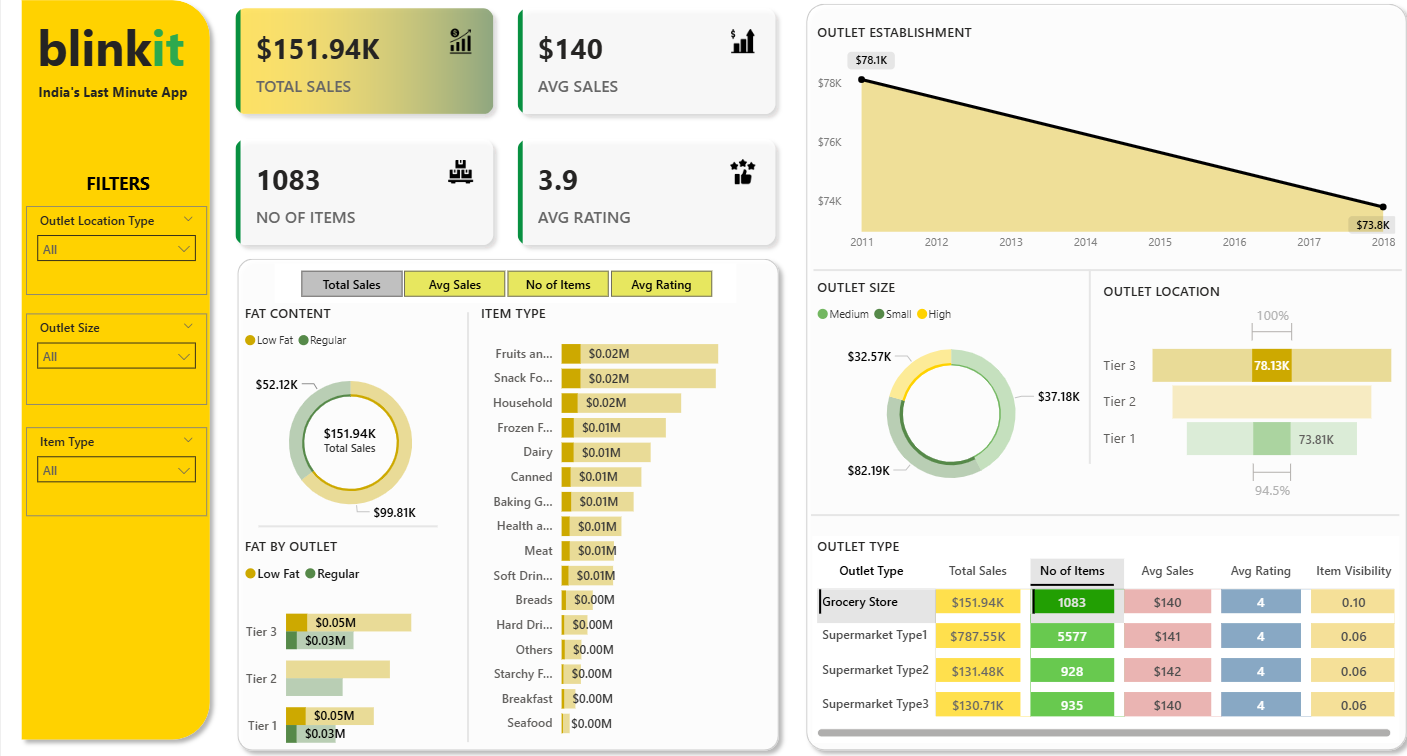

This screenshot's page, from the dashboard's own definition file:
{"tool":"powerbi","page":{"name":"Page 1","canvas":[1400,800],"ordinal":0},"visuals":[{"type":"shape","box":[10.9,15,204.5,749.8],"z":0},{"type":"textbox","box":[31.4,32.7,165,83.2],"z":1000},{"type":"textbox","box":[28.9,98.7,167.1,34.2],"z":2000},{"type":"cardVisual","fields":{"Data":["BlinkIT Grocery Data.Total Sales","BlinkIT Grocery Data.Avg Sales","BlinkIT Grocery Data.No of Items","BlinkIT Grocery Data.Avg Rating"]},"box":[215.4,15,569.9,269.9],"z":3000},{"type":"shape","box":[225,271.3,553.5,504.4],"z":4000},{"type":"donutChart","title":"FAT CONTENT","fields":{"Y":["BlinkIT Grocery Data.Total Sales"],"Category":["BlinkIT Grocery Data.Item Fat Content"]},"box":[235.9,324.5,219.5,230.4],"z":5000},{"type":"slicer","fields":{"Values":["Metrics.Metrics"]},"box":[271.3,284.9,456.7,39.5],"z":6000},{"type":"cardVisual","fields":{"Data":["BlinkIT Grocery Data.Total Sales"]},"box":[298.6,425.4,94.1,62.7],"z":7000},{"type":"clusteredBarChart","title":"FAT BY OUTLET","fields":{"Y":["BlinkIT Grocery Data.Total Sales"],"Category":["BlinkIT Grocery Data.Outlet Location Type"],"Series":["BlinkIT Grocery Data.Item Fat Content"]},"box":[236.8,553.9,219.7,230.3],"z":8000},{"type":"shape","box":[254.9,534.4,177.2,20.5],"z":9000},{"type":"shape","box":[454,332.7,16.4,425.4],"z":10000},{"type":"barChart","title":"ITEM TYPE","fields":{"Y":["BlinkIT Grocery Data.Total Sales"],"Category":["BlinkIT Grocery Data.Item Type"]},"box":[470.4,324.5,286.3,440.4],"z":11000},{"type":"shape","box":[788,19.1,612.1,756.7],"z":12000},{"type":"lineChart","title":"OUTLET ESTABLISHMENT","fields":{"Y":["BlinkIT Grocery Data.Total Sales"],"Category":["BlinkIT Grocery Data.Outlet Establishment Year"]},"box":[803,46.4,582.1,234.5],"z":13000},{"type":"shape","box":[804.4,280.8,582.1,20.5],"z":14000},{"type":"donutChart","title":"OUTLET SIZE","fields":{"Y":["BlinkIT Grocery Data.Total Sales"],"Category":["BlinkIT Grocery Data.Outlet Size"]},"box":[803,298.6,275.4,225],"z":15000},{"type":"shape","box":[1070.2,290.4,15,192.2],"z":16000},{"type":"funnel","title":"OUTLET LOCATION","fields":{"Y":["Sum(BlinkIT Grocery Data.Sales)"],"Category":["BlinkIT Grocery Data.Outlet Location Type"]},"box":[1086.6,301.3,299.9,222.2],"z":17000},{"type":"shape","box":[801.6,523.5,582.1,20.5],"z":18000},{"type":"pivotTable","title":"OUTLET TYPE","fields":{"Rows":["BlinkIT Grocery Data.Outlet Type"],"Values":["BlinkIT Grocery Data.Total Sales","BlinkIT Grocery Data.No of Items","BlinkIT Grocery Data.Avg Sales","BlinkIT Grocery Data.Avg Rating","Avg(BlinkIT Grocery Data.Item Visibility)"]},"box":[803,553.5,580.8,204.5],"z":19000},{"type":"slicer","fields":{"Values":["BlinkIT Grocery Data.Outlet Location Type"]},"box":[25,227.6,178.9,88.2],"z":20000},{"type":"slicer","fields":{"Values":["BlinkIT Grocery Data.Outlet Size"]},"box":[25,334.2,178.9,90.8],"z":21000},{"type":"slicer","fields":{"Values":["BlinkIT Grocery Data.Item Type"]},"box":[25,446.1,178.9,88.2],"z":22000},{"type":"shape","title":"FILTERS","box":[72.4,193.4,85.5,25],"z":23000}]}

Visuals, with their boxes on the page's 1400x800 design canvas (x1, y1, x2, y2). These are canvas units, not pixel positions in the 1407x756 screenshot, which may show the page scaled, cropped or inside an application window:
shape: (11, 15, 215, 765)
textbox: (31, 33, 196, 116)
textbox: (29, 99, 196, 133)
cardVisual - BlinkIT Grocery Data.Total Sales x BlinkIT Grocery Data.Avg Sales: (215, 15, 785, 285)
shape: (225, 271, 778, 776)
"FAT CONTENT" donutChart: (236, 324, 455, 555)
slicer - Metrics.Metrics: (271, 285, 728, 324)
cardVisual - BlinkIT Grocery Data.Total Sales: (299, 425, 393, 488)
"FAT BY OUTLET" clusteredBarChart: (237, 554, 456, 784)
shape: (255, 534, 432, 555)
shape: (454, 333, 470, 758)
"ITEM TYPE" barChart: (470, 324, 757, 765)
shape: (788, 19, 1400, 776)
"OUTLET ESTABLISHMENT" lineChart: (803, 46, 1385, 281)
shape: (804, 281, 1386, 301)
"OUTLET SIZE" donutChart: (803, 299, 1078, 524)
shape: (1070, 290, 1085, 483)
"OUTLET LOCATION" funnel: (1087, 301, 1386, 524)
shape: (802, 524, 1384, 544)
"OUTLET TYPE" pivotTable: (803, 554, 1384, 758)
slicer - BlinkIT Grocery Data.Outlet Location Type: (25, 228, 204, 316)
slicer - BlinkIT Grocery Data.Outlet Size: (25, 334, 204, 425)
slicer - BlinkIT Grocery Data.Item Type: (25, 446, 204, 534)
"FILTERS" shape: (72, 193, 158, 218)
